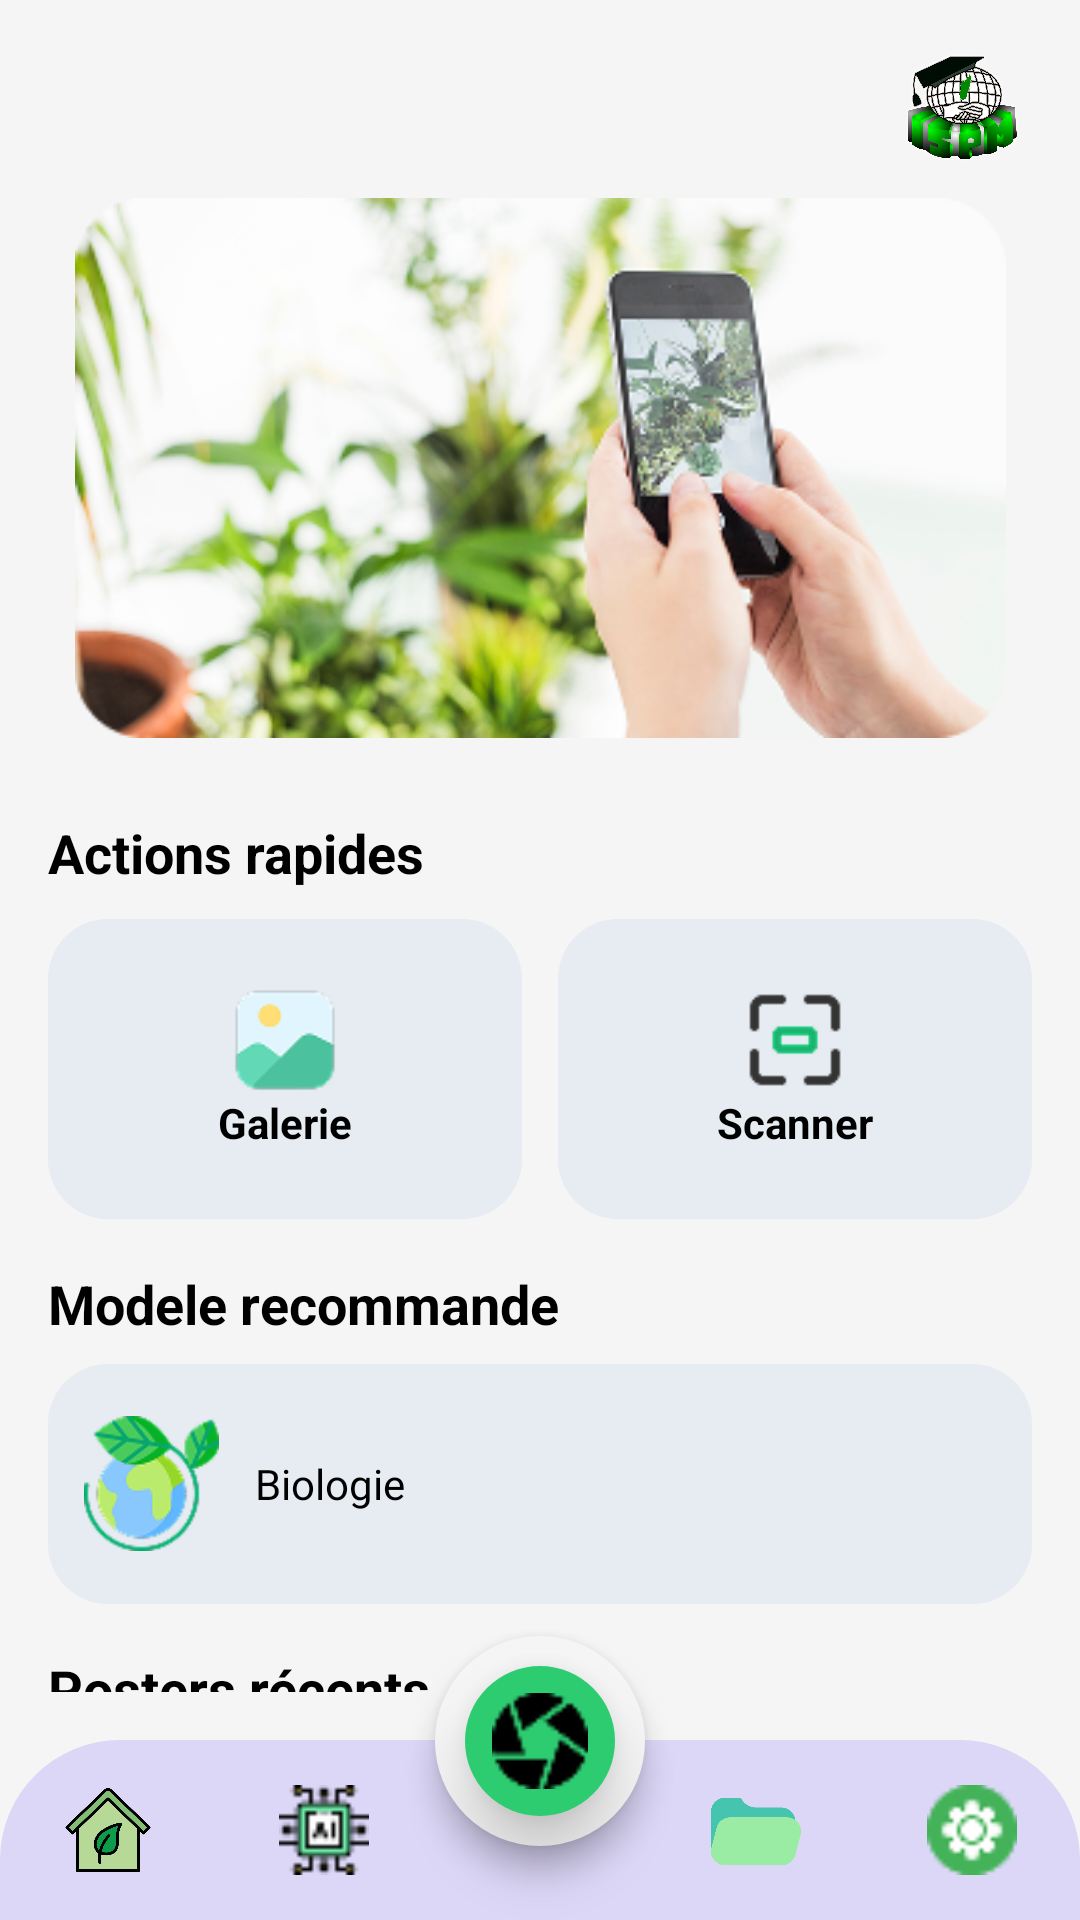

Icons on this 1080 x 1920 Android screen, each with its box as [left=x1, top=y1, right=x2, bottom=y2]:
ai: [left=279, top=1785, right=369, bottom=1875]
bio: [left=84, top=1416, right=219, bottom=1551]
folder: [left=711, top=1798, right=801, bottom=1865]
home: [left=65, top=1788, right=151, bottom=1872]
settings: [left=927, top=1785, right=1017, bottom=1875]
